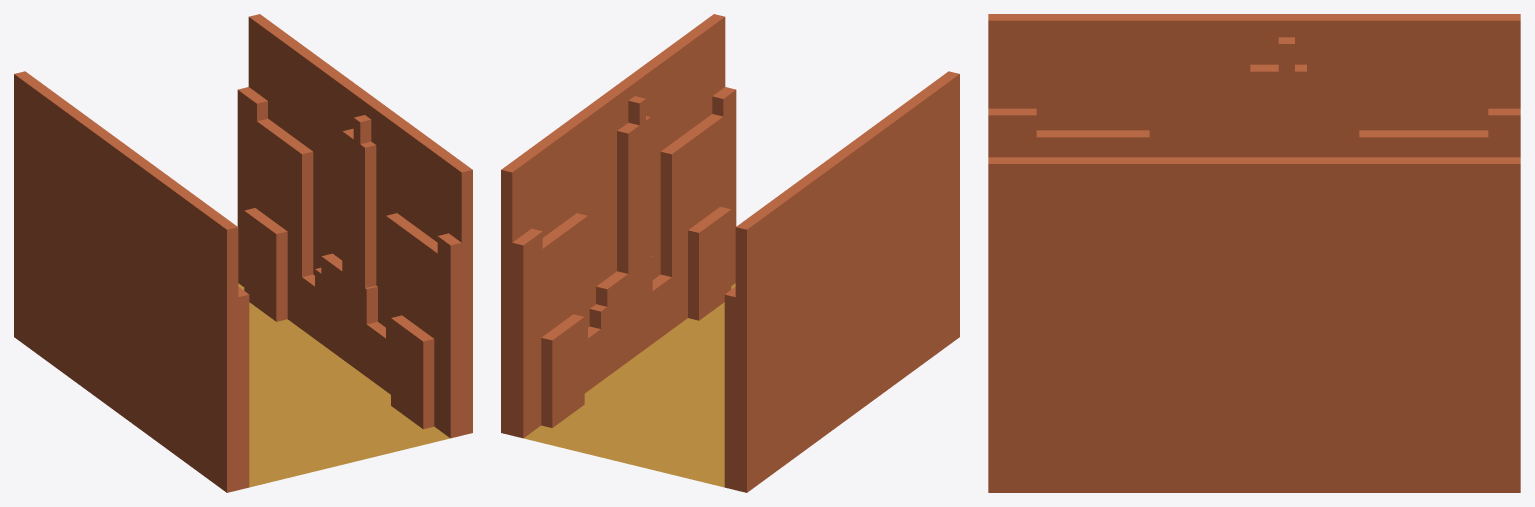
Rendered from ambiente cavallone finale.fbx.
3 renders of one model, left to right at view 1: azimuth 30°, elevation 25°; view 2: azimuth 150°, elevation 25°; view 3: azimuth 270°, elevation 25°, orthographic. The views are drawn at different scales.
Visible parts, largest first — view 1: Connect_1, Connect, Plane; view 2: Connect_1, Connect, Plane; view 3: Connect_1, Connect.
Boxes of the visible parts, x1,y1,x2,y2 form: Connect_1: [237, 14, 472, 438]; Connect: [14, 71, 249, 492]; Plane: [238, 283, 449, 487]; Connect_1: [501, 14, 736, 438]; Connect: [724, 71, 959, 492]; Plane: [524, 283, 735, 487]; Connect_1: [988, 157, 1520, 492]; Connect: [988, 14, 1520, 157].
Size of the model in its own units: 4400 by 4500 by 6600.
